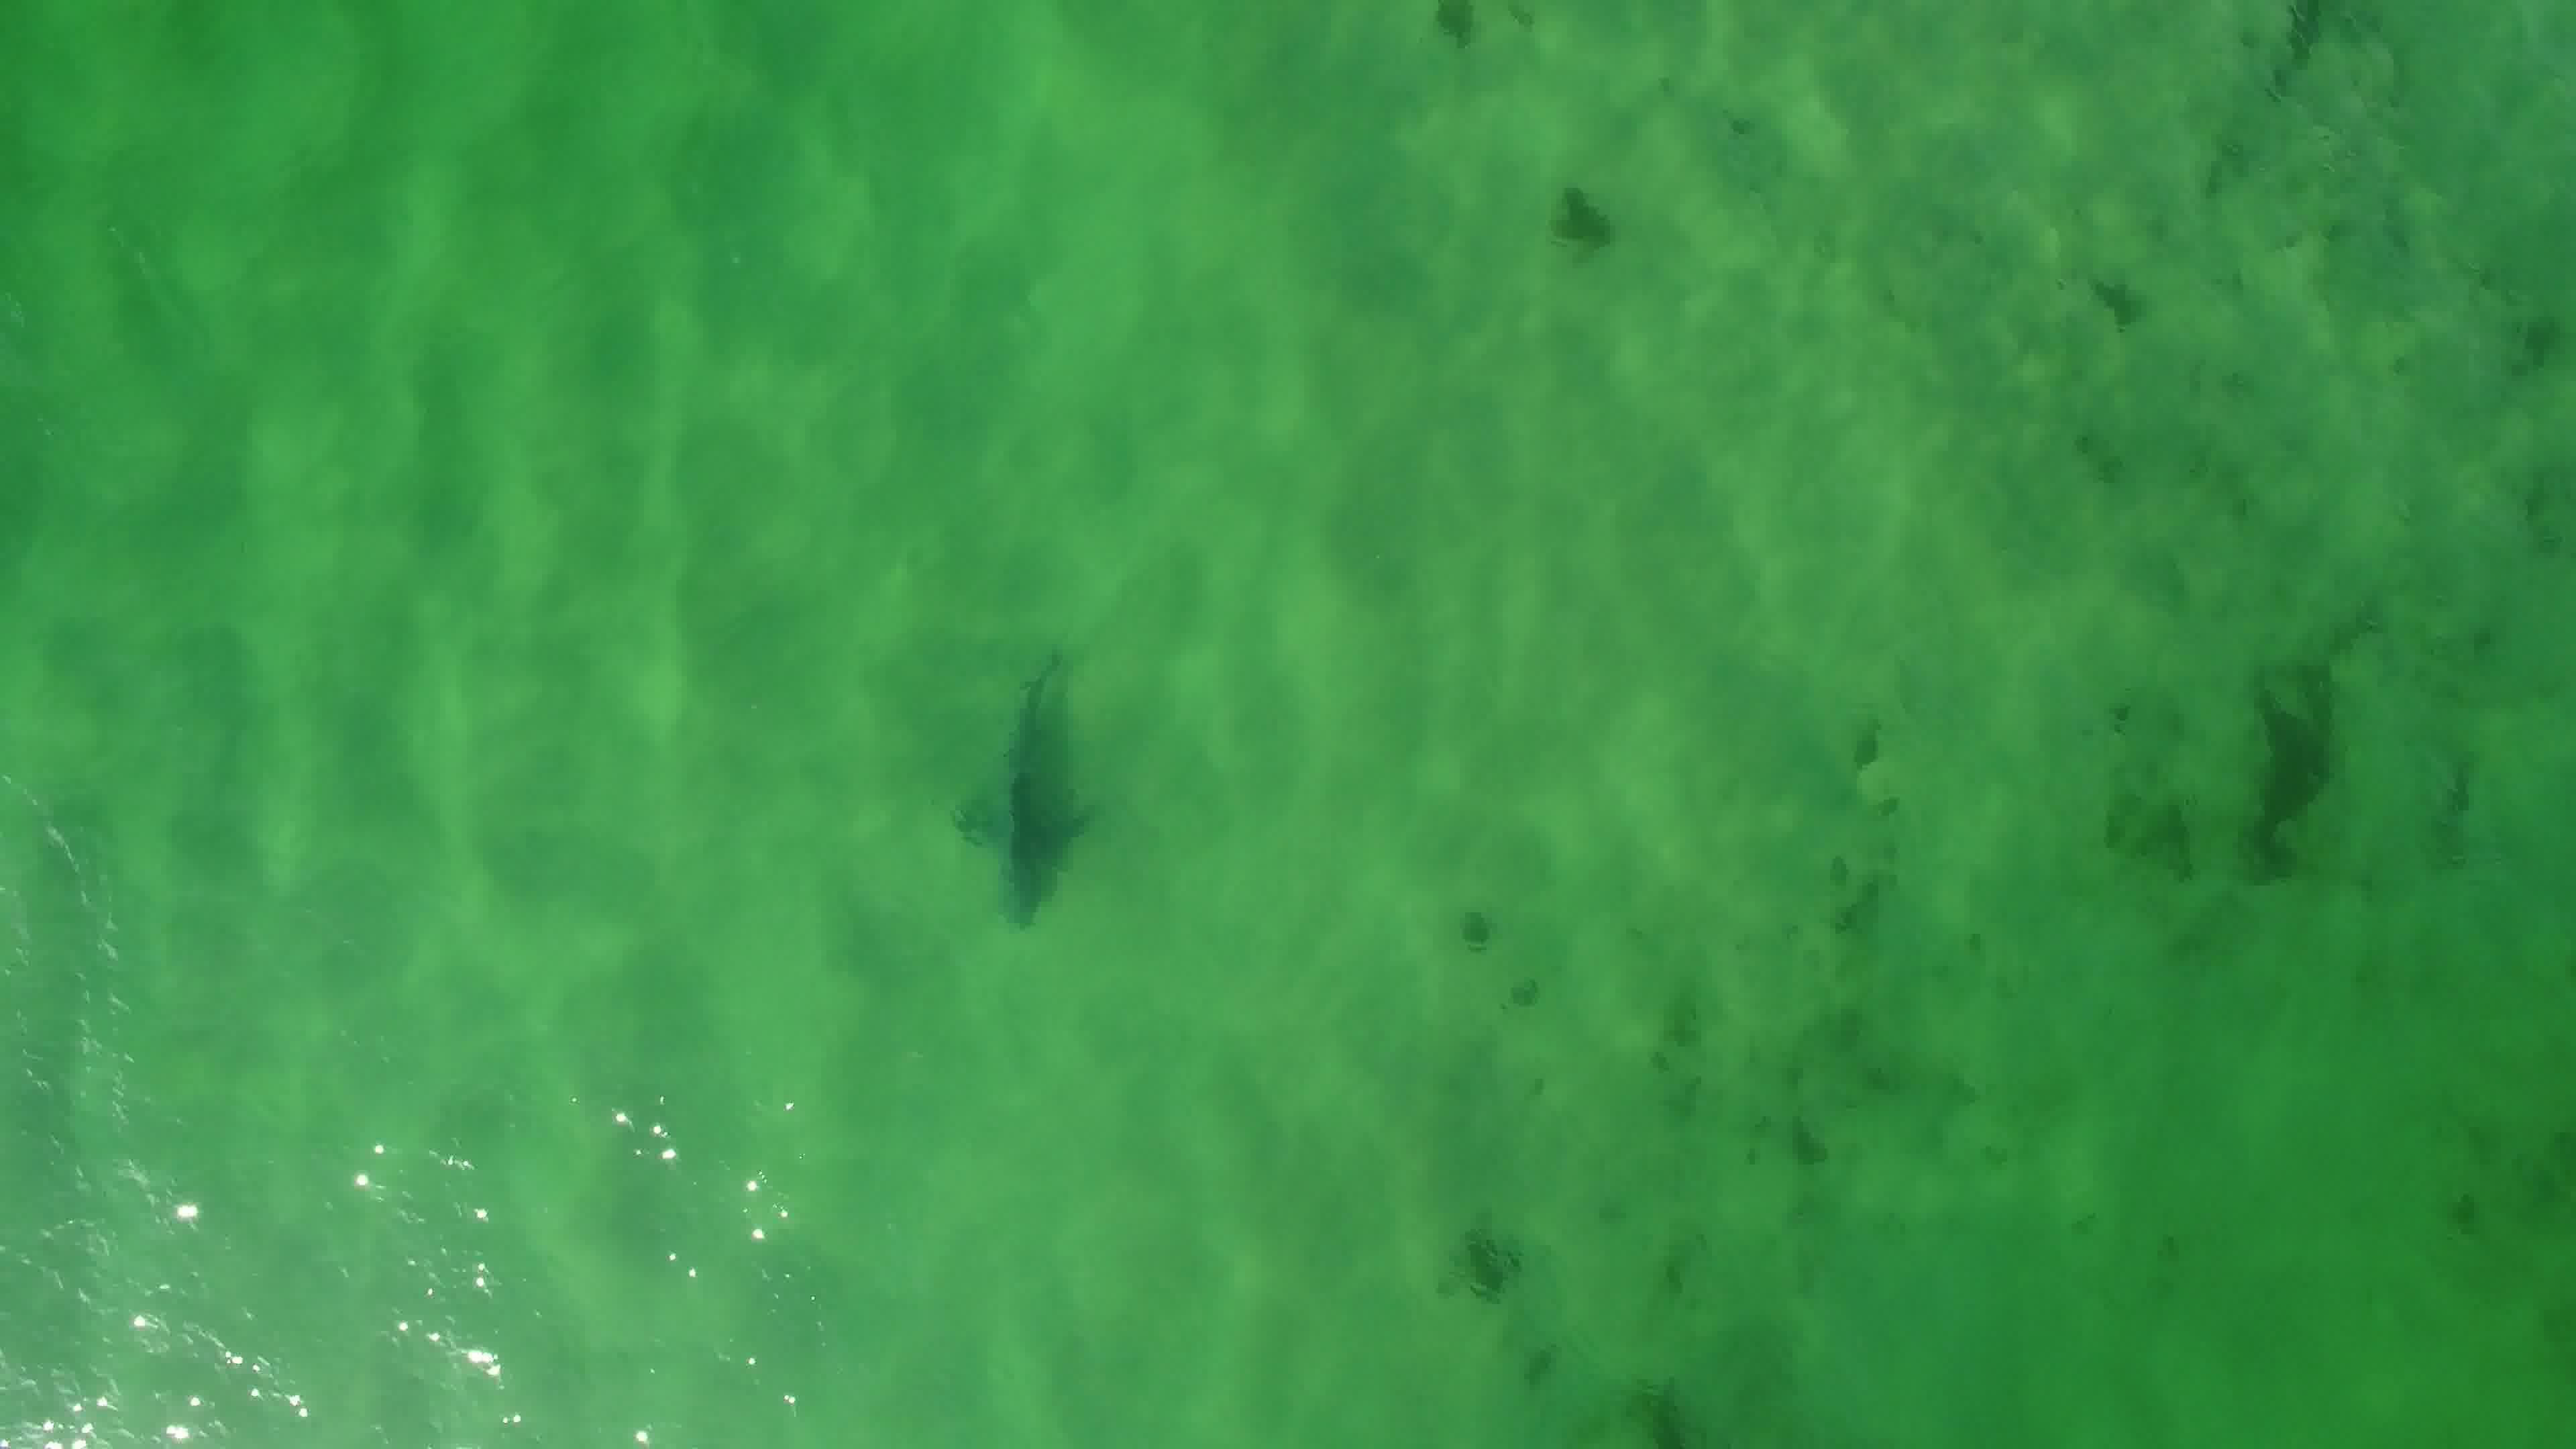shark: (943, 635, 1093, 932)
